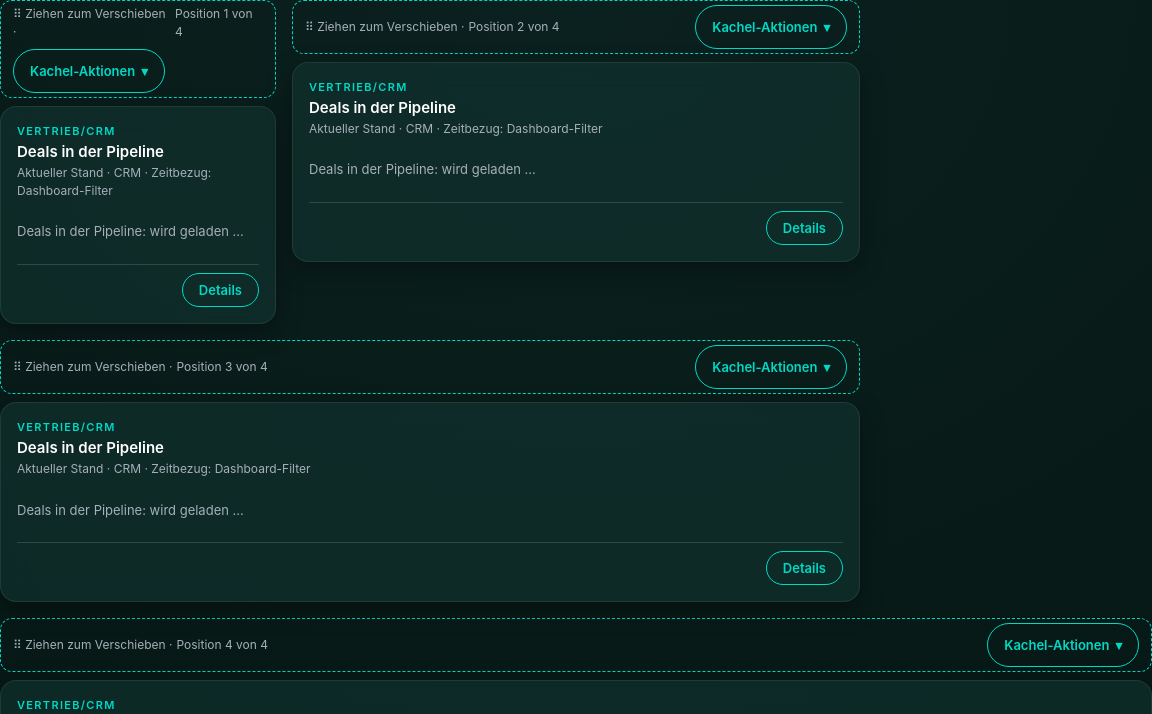
DashboardGrid › legt die Aktionen hinter „Kachel-Aktionen“ und klappt sie im Fluss auf (Auftrag 090)
Click the button "Kachel-Aktionen ▾" below "Position 1 von 4": (89, 71) x1=13 y1=49 x2=165 y2=93
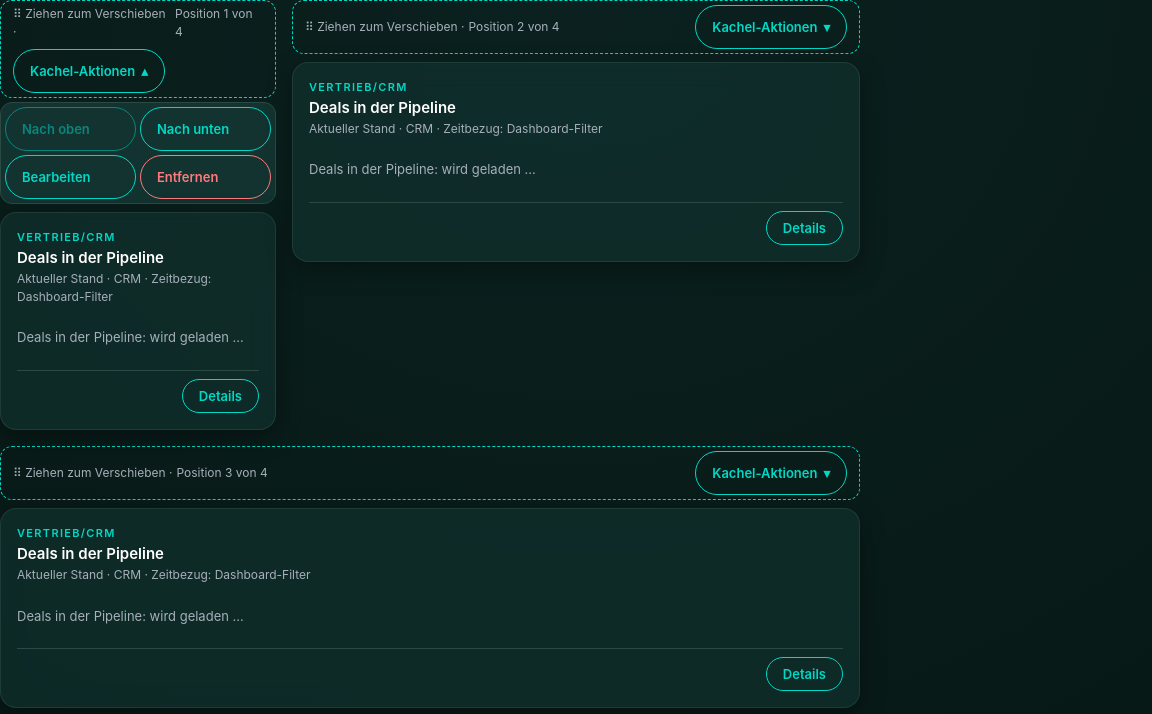
Click the button "Kachel-Aktionen ▾" next to "Position 2 von 4": (771, 27) x1=695 y1=5 x2=847 y2=49
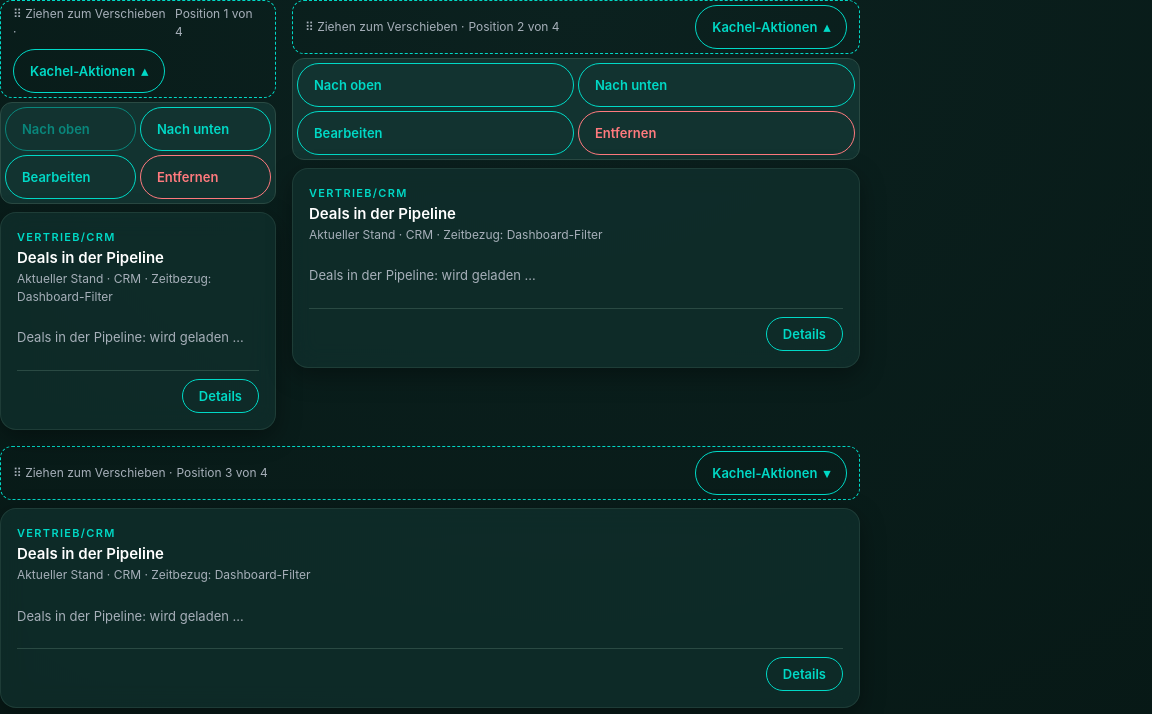
Click the button "Kachel-Aktionen ▾": (771, 473) x1=695 y1=451 x2=847 y2=495
(page scrolled)
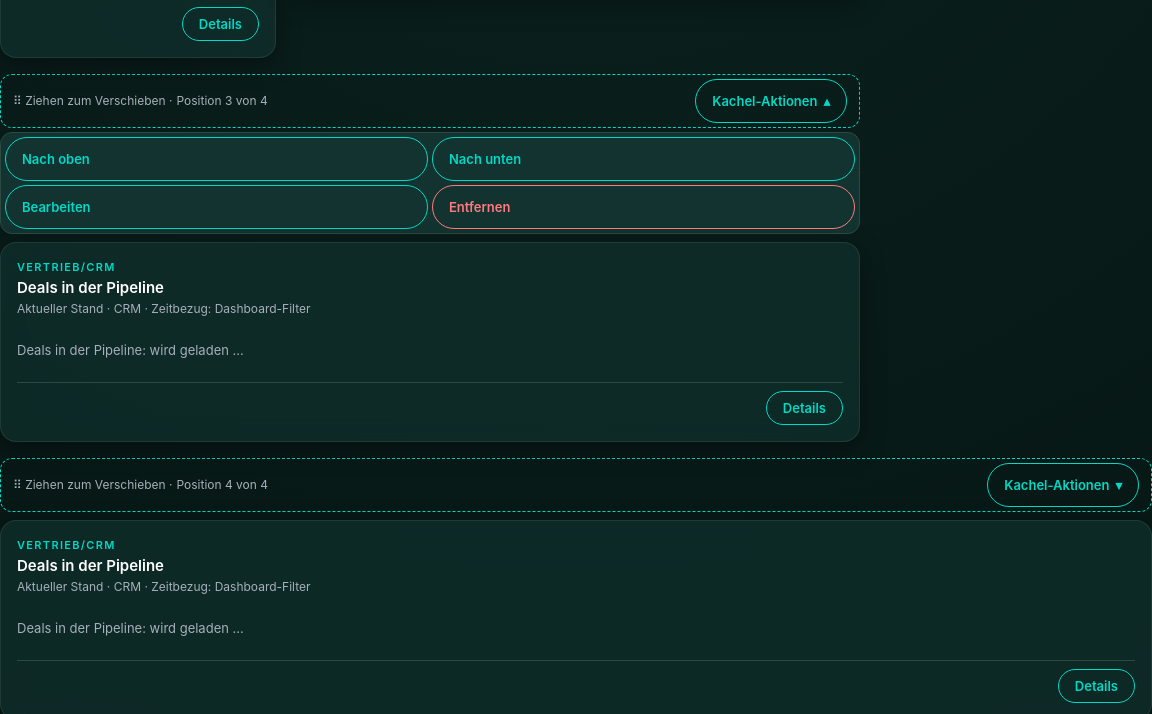
Click the button "Kachel-Aktionen ▾": (1063, 485) x1=987 y1=463 x2=1139 y2=507
(page scrolled)
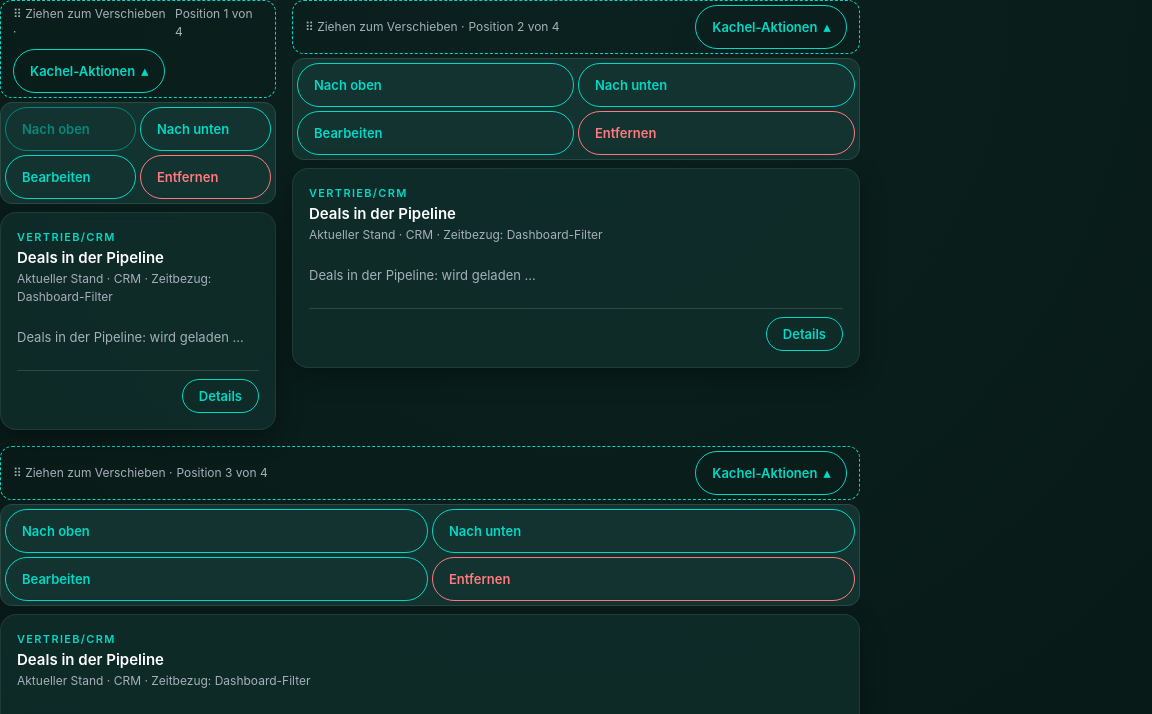
Expected: the button with aria-label "Kachel-Aktionen, Position 2 von 4" is expanded
Click the button with aria-label "Kachel-Aktionen, Position 2 von 4": (771, 27) x1=695 y1=5 x2=847 y2=49
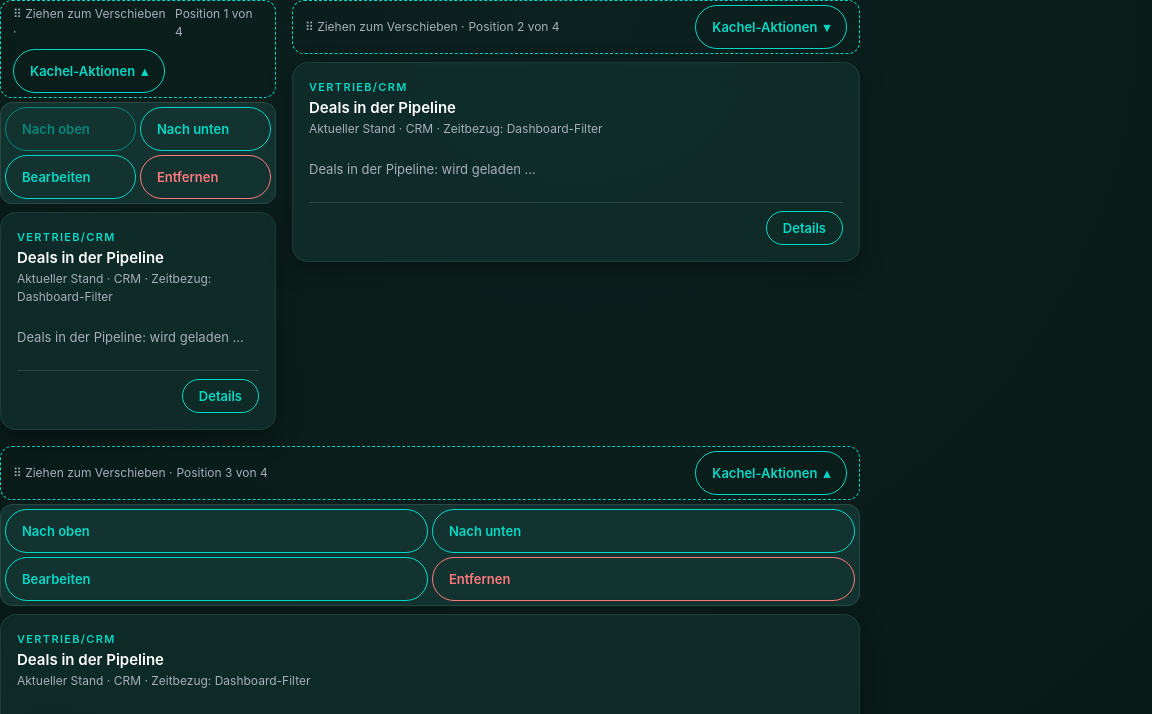
Expected: the element with test id "tile-edit-bar" shows "Position 2 von 4", x1=468 y1=19 x2=560 y2=34
Expected: the button with aria-label "Kachel-Aktionen, Position 2 von 4" is collapsed, x1=695 y1=5 x2=847 y2=49
